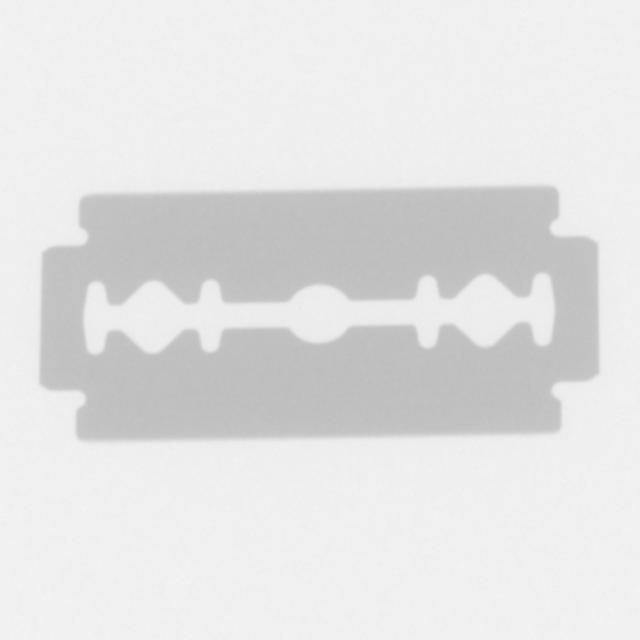razor: (37, 181, 603, 447)
